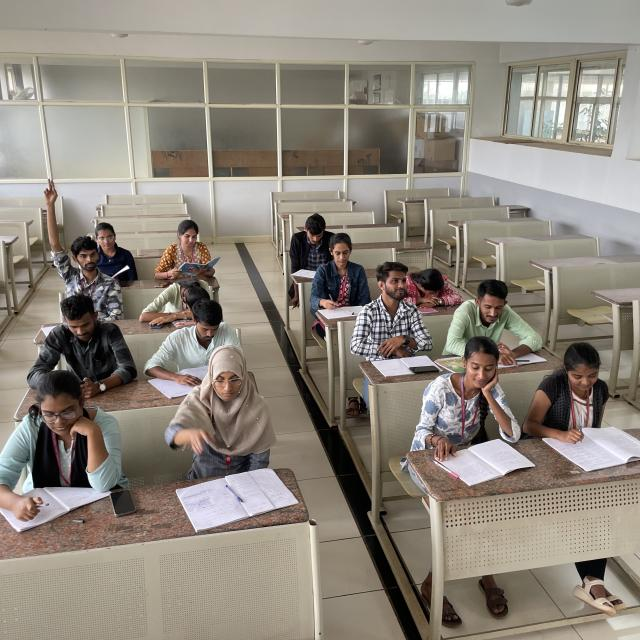Hand Rising: (44, 172, 119, 298)
Reading: (425, 337, 525, 472), (151, 304, 249, 389), (154, 215, 228, 282), (280, 210, 340, 283)
Sleeping: (408, 260, 464, 308)
Using Phone: (35, 298, 142, 403)
Writing: (0, 379, 98, 526), (538, 337, 632, 456), (313, 234, 370, 320)
